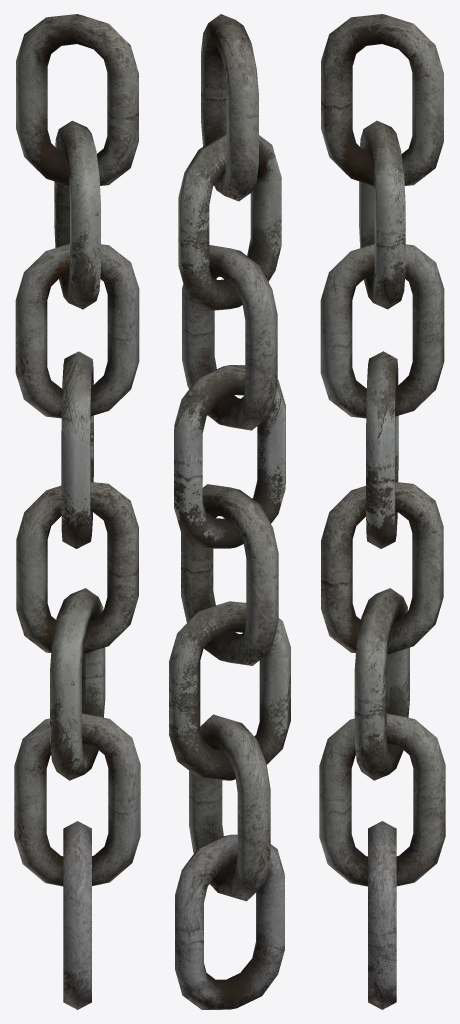
Rendered from chains.FBX.
The picture shows the model from 3 angles, left to right: view 1: azimuth 90°, elevation 25°; view 2: azimuth 210°, elevation 25°; view 3: azimuth 270°, elevation 25°; orthographic projection.
Parts seen in each view (by area): view 1: SM_Chains; view 2: SM_Chains; view 3: SM_Chains.
Boxes of the visible parts, bbox=[...] form: SM_Chains: bbox=[14, 14, 140, 1009]; SM_Chains: bbox=[169, 14, 290, 1009]; SM_Chains: bbox=[319, 14, 445, 1009].
Bounding box in the file's own units: 2.47 × 21.33 × 2.47.
Materials: 1 (1 with a texture image).
